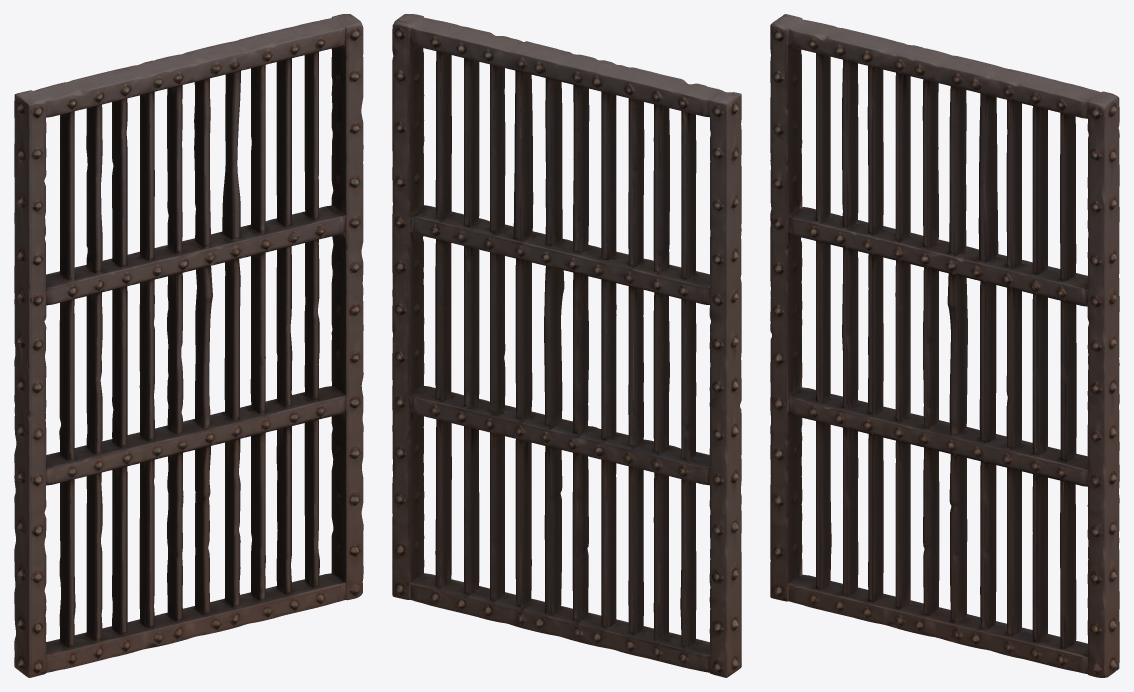
The model's file is porticullus_1024.glb.
The picture shows the model from 3 angles, left to right: view 1: azimuth 30°, elevation 25°; view 2: azimuth 150°, elevation 25°; view 3: azimuth 330°, elevation 25°; orthographic projection.
Parts seen in each view (by area): view 1: node_0; view 2: node_0; view 3: node_0.
Boxes of the visible parts, bbox=[...] form: node_0: bbox=[14, 14, 363, 677]; node_0: bbox=[392, 14, 741, 677]; node_0: bbox=[770, 14, 1119, 677].
Size of the model in its own units: 0.6412 by 1.02 by 0.0647.
Materials: 1 (1 with a texture image).
